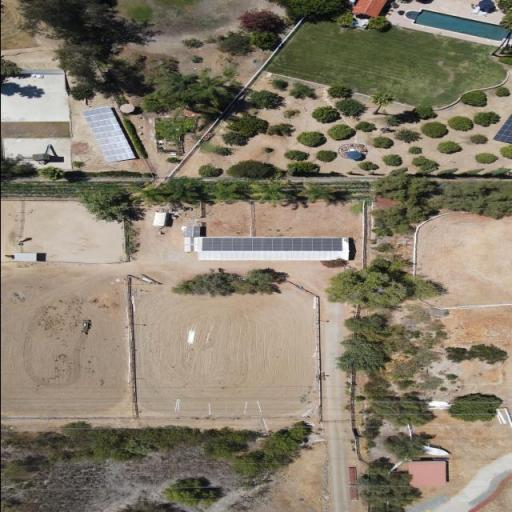solar-panel: (80, 106, 135, 163), (201, 238, 342, 251), (492, 112, 512, 143)
